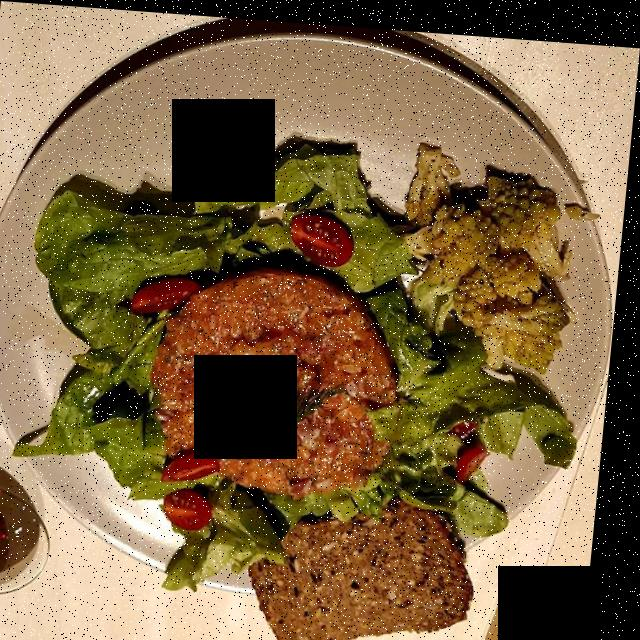romanesco: (394, 131, 593, 368)
salad-leaf-salad-green: (21, 142, 589, 577), (142, 210, 416, 508)
tomato-raw: (137, 200, 505, 526)
